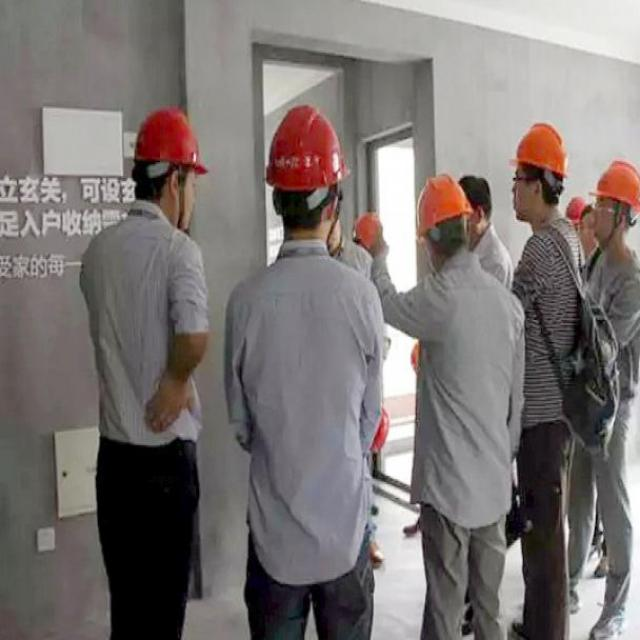helmet: (256, 93, 349, 247), (404, 157, 482, 269), (126, 101, 196, 225), (508, 107, 561, 226), (595, 148, 634, 244), (357, 200, 387, 264)
